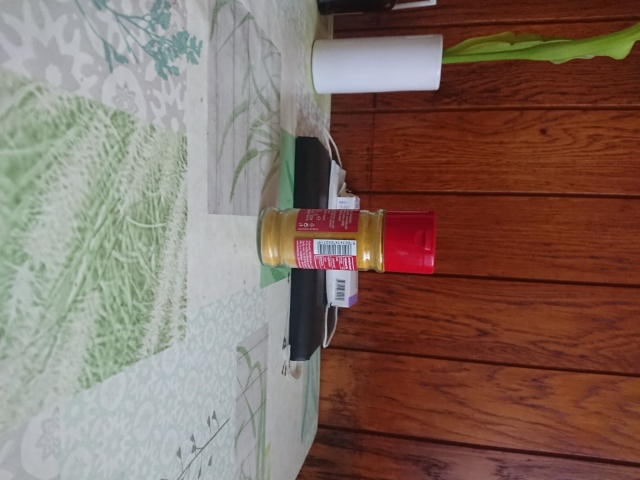Kotanyi Curry Spices Mix 70g: (255, 204, 439, 277)
